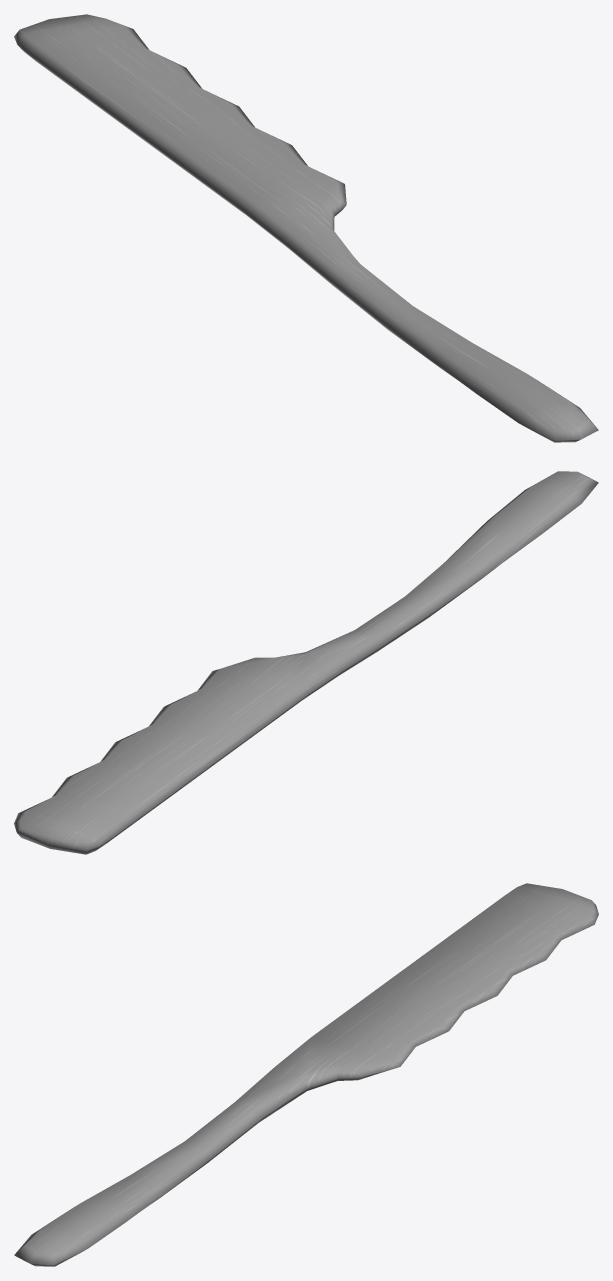
Rendered from knifetable.glb.
3 views of the same model, one above another, from view 1: azimuth 30°, elevation 25°; view 2: azimuth 150°, elevation 25°; view 3: azimuth 330°, elevation 25° (orthographic). The views are drawn at different scales.
Parts seen in each view (by area): view 1: knifetable; view 2: knifetable; view 3: knifetable.
Boxes of the visible parts, bbox=[...] form: knifetable: bbox=[14, 14, 598, 442]; knifetable: bbox=[14, 471, 598, 854]; knifetable: bbox=[14, 883, 598, 1266].
Bounding box in the file's own units: 0.1078 × 0.0261 × 0.9091.
Materials: 1 (1 with a texture image).
